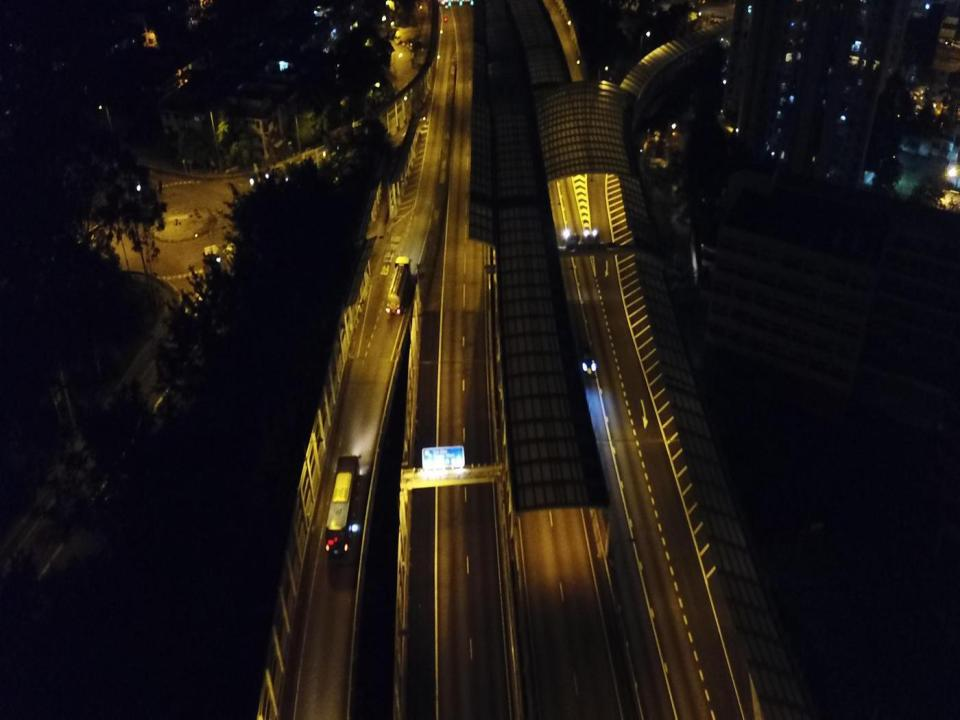bus: (324, 454, 362, 557)
car: (579, 341, 598, 376)
truck: (385, 255, 412, 315), (394, 25, 416, 44)
